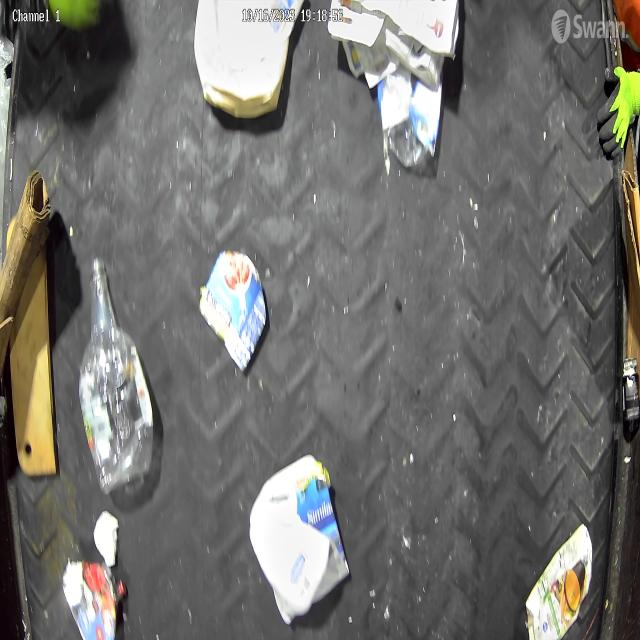plastic_bottle: (77, 250, 155, 490)
